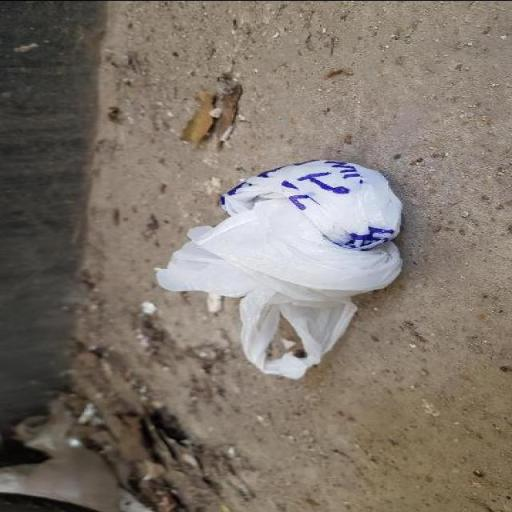plastic-bag: (154, 157, 407, 381)
